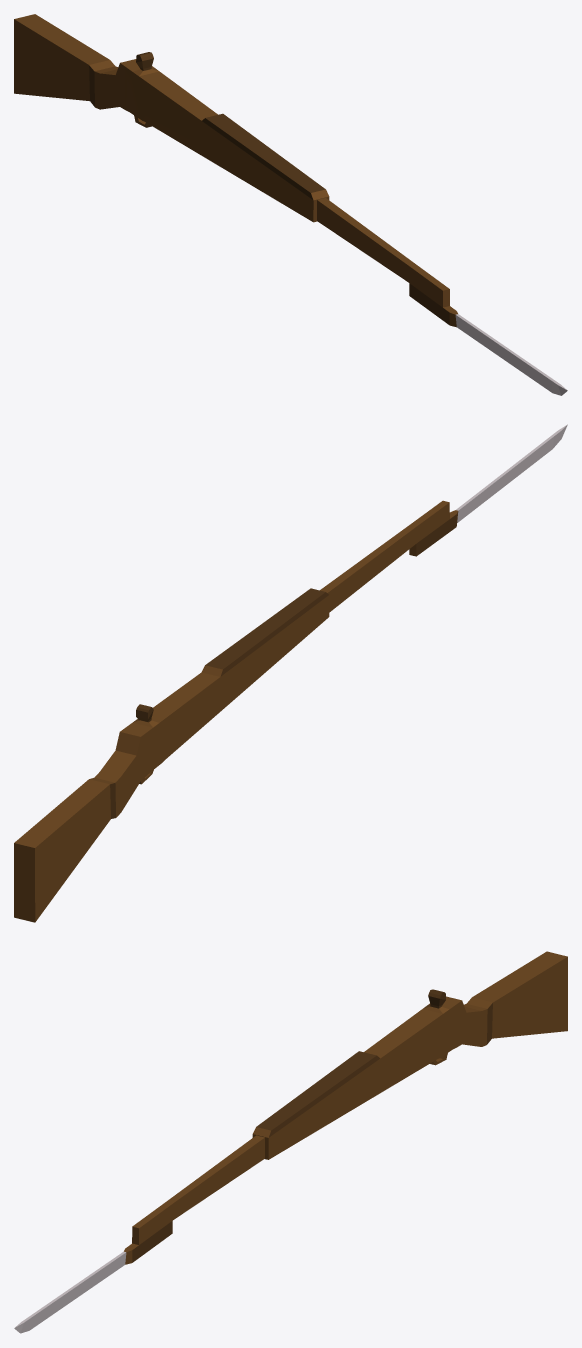
File: rifle_bayonet.fbx
3 views of the same model, one above another, from view 1: azimuth 30°, elevation 25°; view 2: azimuth 150°, elevation 25°; view 3: azimuth 330°, elevation 25° (orthographic).
Visible parts, largest first — view 1: Cube.001; view 2: Cube.001; view 3: Cube.001.
Part boxes in pixels (bbox=[...]): Cube.001: bbox=[14, 14, 567, 395]; Cube.001: bbox=[14, 424, 567, 922]; Cube.001: bbox=[14, 951, 567, 1333].
Size of the model in its own units: 6.2 by 35.08 by 275.
